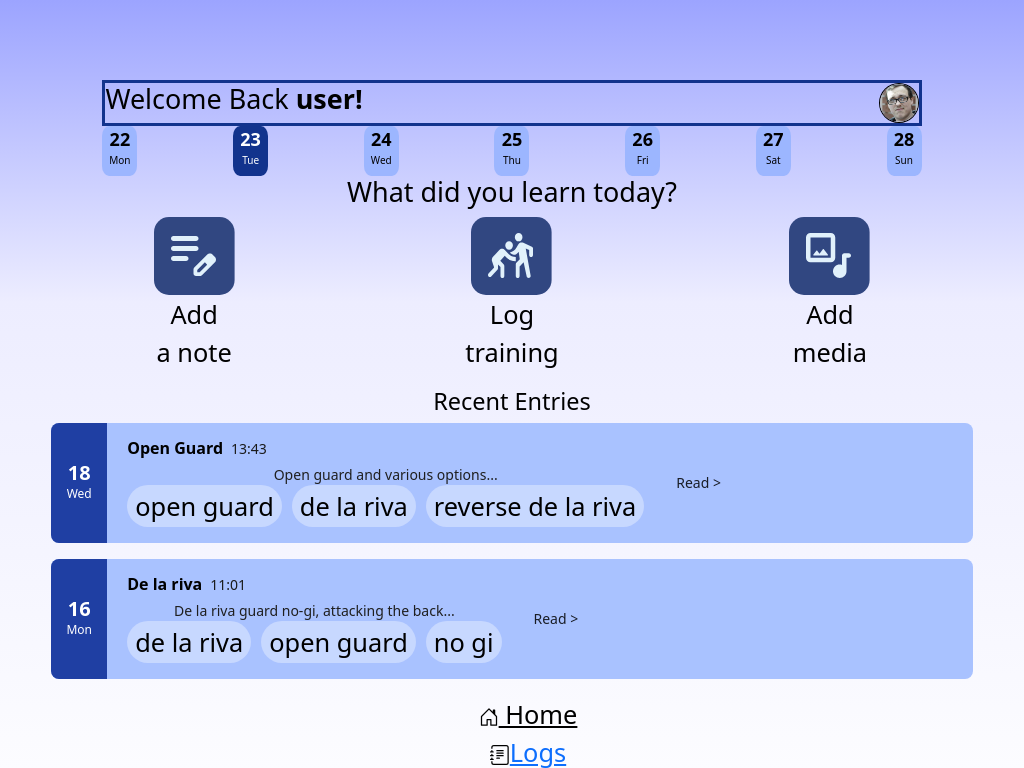
Test: App Tests › Page Renders Routes
The image size is (1024, 768).
Expected: the heading "What did you learn today?" is shown, x1=347 y1=173 x2=677 y2=210
# we click a link to change routes
Step 1. Click the 2nd link → point(512, 256), box x1=472 y1=217 x2=552 y2=295
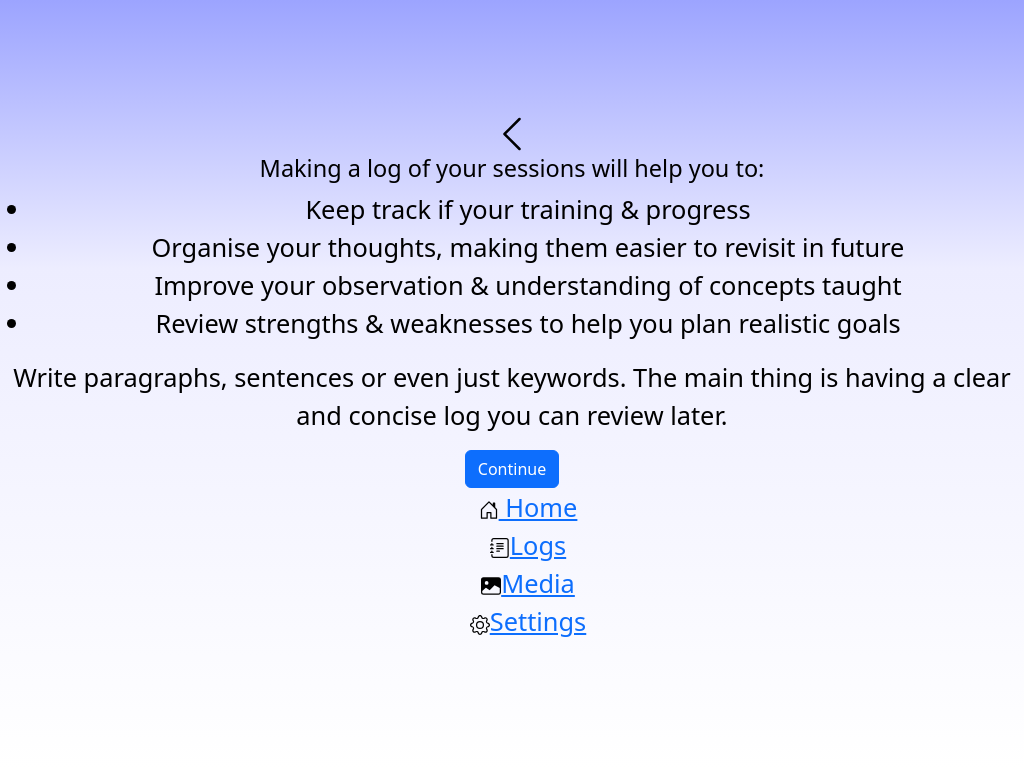
Result: the heading "Making a log of your sessions will help you to:" is shown at x1=260 y1=152 x2=764 y2=184
Result: the heading "What did you learn today?" is gone
# fire second click to return to the homepage
Step 2. Click the link "Home" → point(528, 507), box x1=479 y1=490 x2=577 y2=524
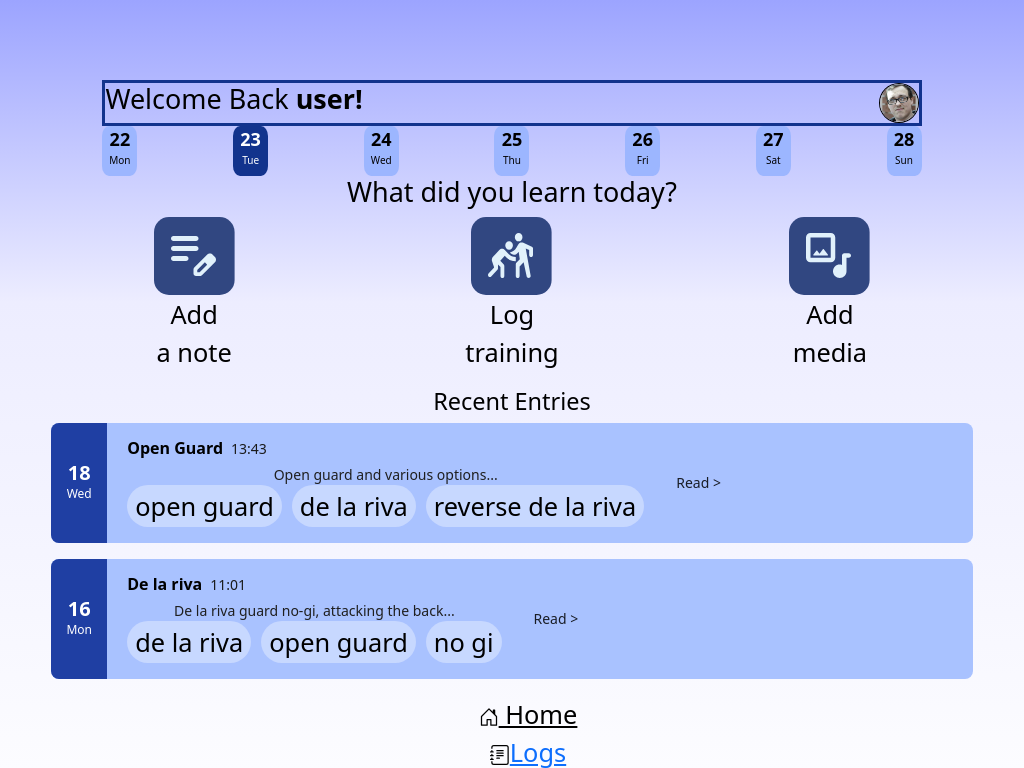
Result: the heading "Making a log of your sessions will help you to:" is gone
Result: the heading "What did you learn today?" is shown at x1=347 y1=173 x2=677 y2=210
